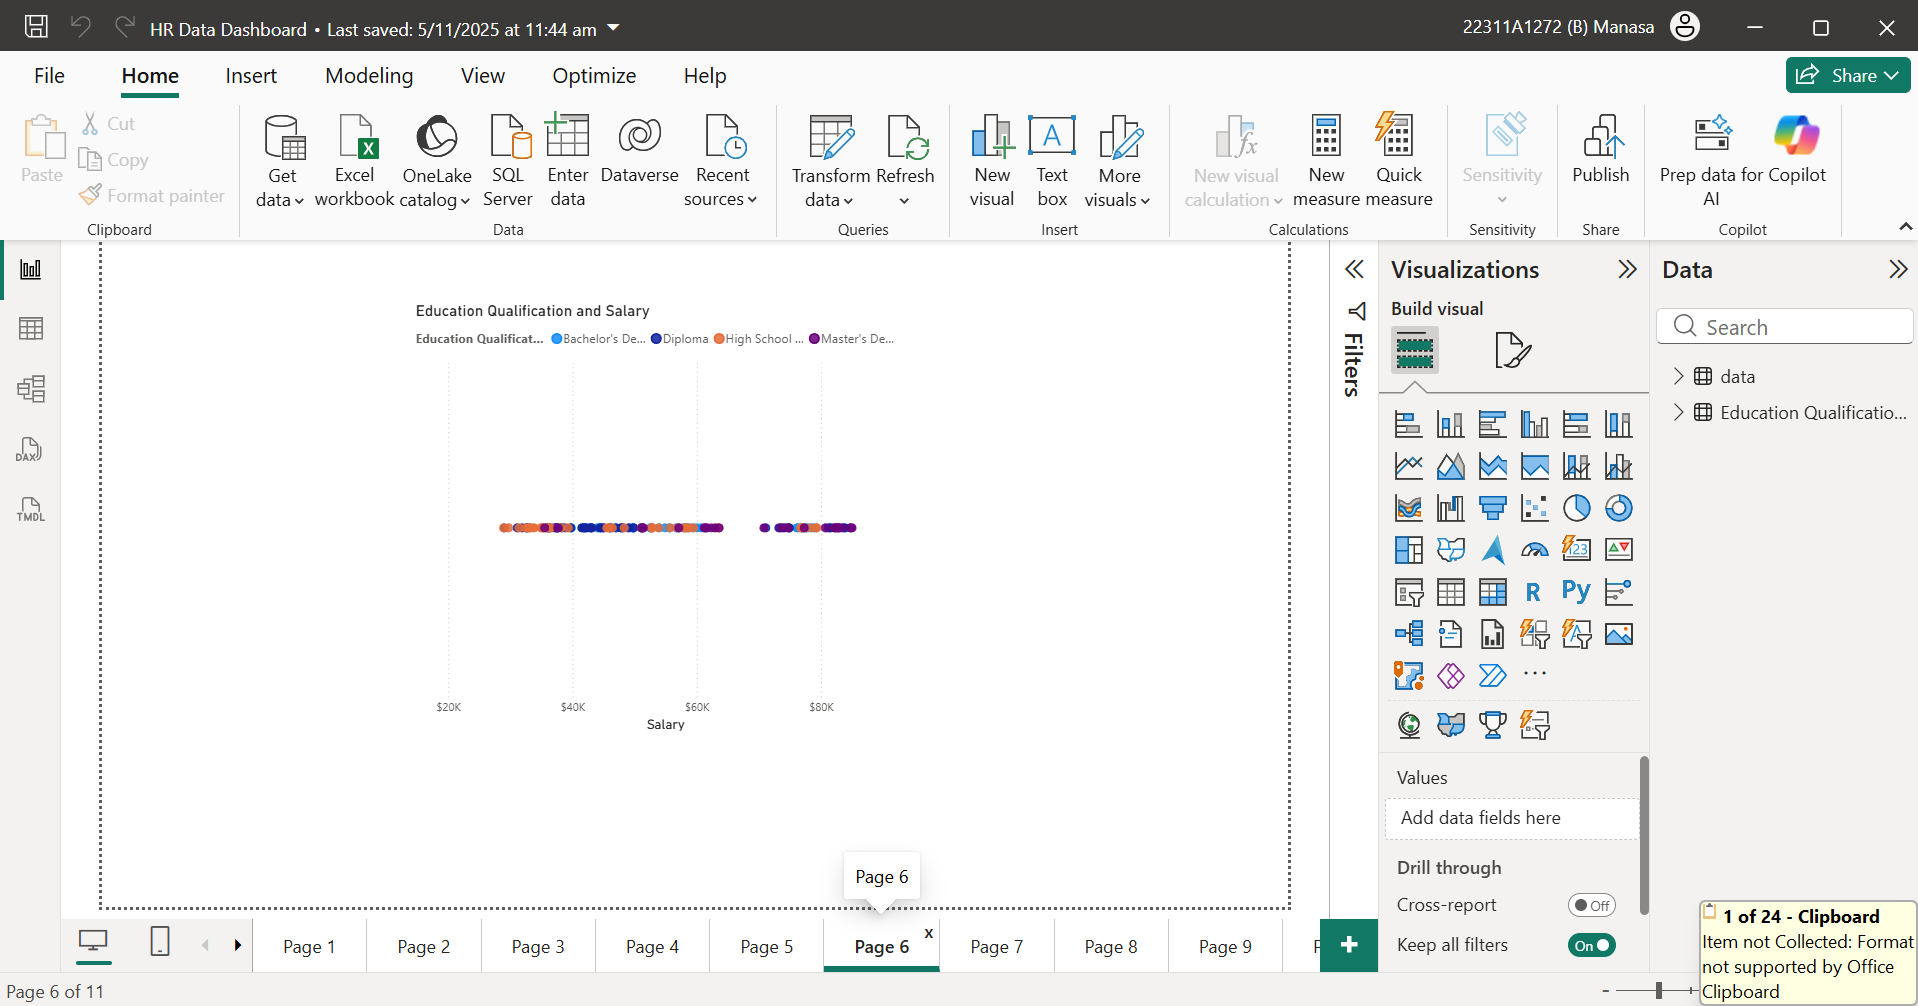

Layout of this report page (visuals, bound fields, positions):
{"tool":"powerbi","page":{"name":"Page 6","canvas":[1280,720],"ordinal":5},"visuals":[{"type":"scatterChart","fields":{"X":["data.Salary"],"Series":["data.Education Qualification"]},"box":[333.3,66.7,528.3,468.3],"z":0}]}

Visuals, with their boxes on the page's 1280x720 design canvas (x1, y1, x2, y2). These are canvas units, not pixel positions in the 1918x1006 screenshot, which may show the page scaled, cropped or inside an application window:
scatterChart - data.Salary x data.Education Qualification: x1=333 y1=67 x2=862 y2=535
